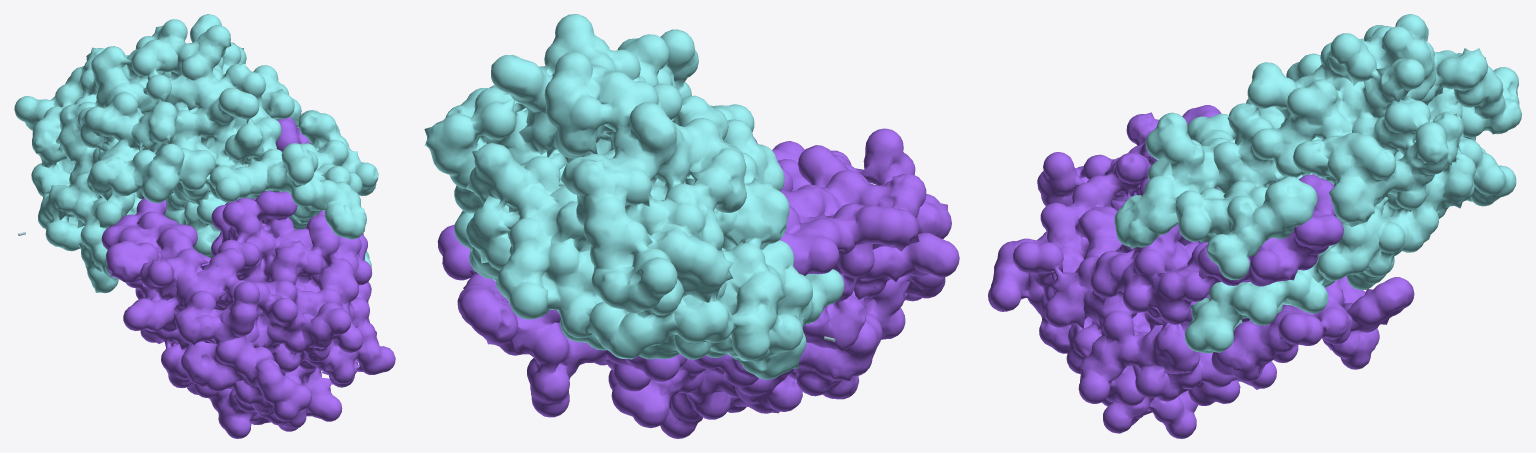
Rendered from 1hxbmesh.fbx.
The picture shows the model from 3 angles, left to right: view 1: azimuth 30°, elevation 25°; view 2: azimuth 150°, elevation 25°; view 3: azimuth 270°, elevation 25°; orthographic projection. The views are drawn at different scales.
Visible parts, largest first — view 1: chain_A_surface chain_A model_1, model_1 chain_B_surface chain_B; view 2: chain_A_surface chain_A model_1, model_1 chain_B_surface chain_B; view 3: chain_A_surface chain_A model_1, model_1 chain_B_surface chain_B.
Boxes of the visible parts, x1=… form: chain_A_surface chain_A model_1: x1=14, y1=14, x2=378, y2=293; model_1 chain_B_surface chain_B: x1=101, y1=117, x2=395, y2=438; chain_A_surface chain_A model_1: x1=424, y1=14, x2=844, y2=379; model_1 chain_B_surface chain_B: x1=437, y1=128, x2=959, y2=438; chain_A_surface chain_A model_1: x1=1114, y1=14, x2=1521, y2=353; model_1 chain_B_surface chain_B: x1=988, y1=105, x2=1414, y2=438.
Bounding box in the file's own units: 4494 × 4823 × 5778.
